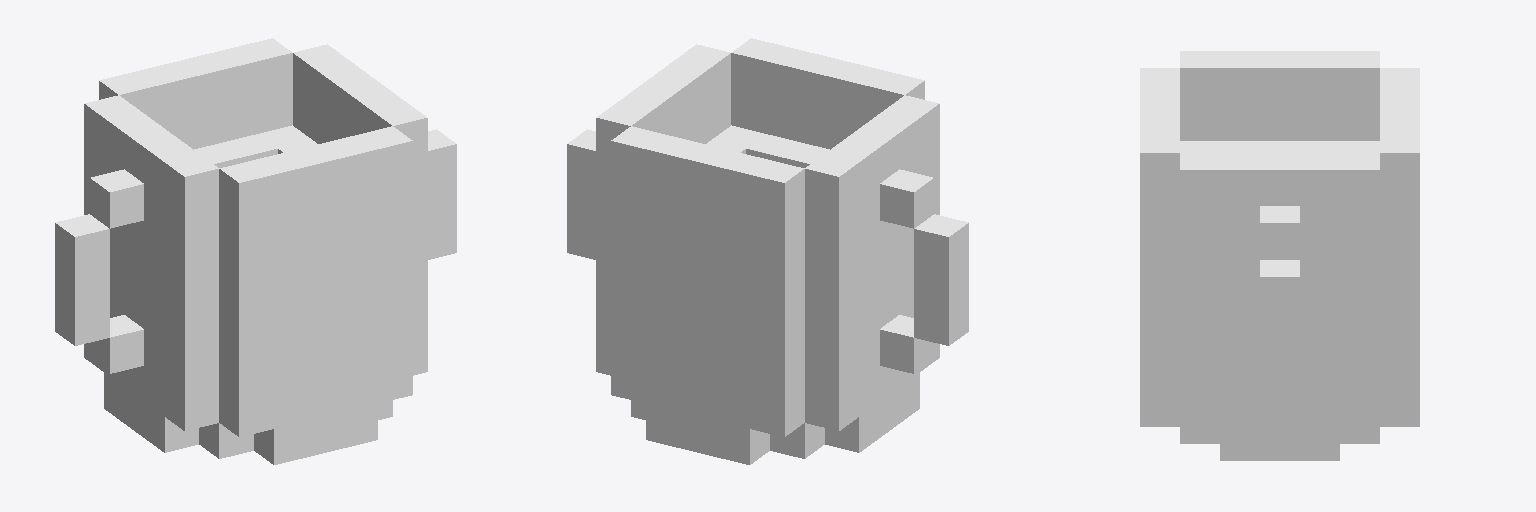
File: prop_pot_silver.obj
The picture shows the model from 3 angles: view 1: azimuth 30°, elevation 25°; view 2: azimuth 150°, elevation 25°; view 3: azimuth 270°, elevation 25°; orthographic projection.
Visible parts, largest first — view 1: object 1; view 2: object 1; view 3: object 1.
Part boxes in pixels (bbox=[...]): object 1: bbox=[55, 38, 456, 464]; object 1: bbox=[567, 38, 968, 464]; object 1: bbox=[1140, 51, 1419, 460].
Bounding box in the file's own units: 1.1 × 0.8 × 0.7.